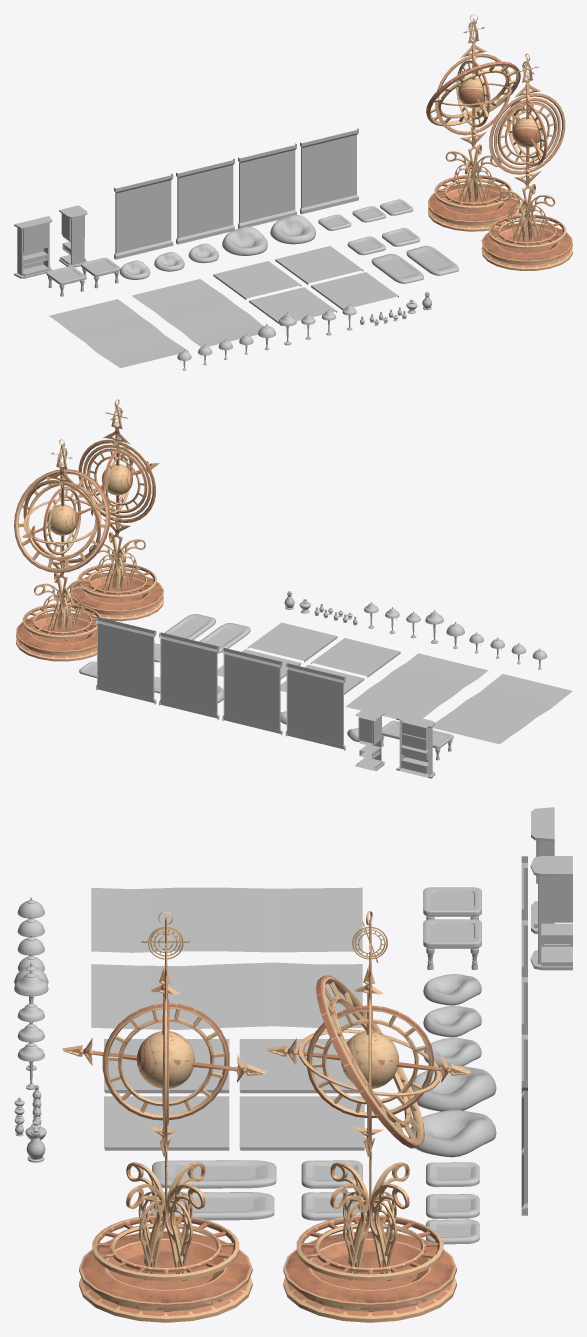
The model's file is fantasyscene_props.fbx.
The picture shows the model from 3 angles, top to bottom: view 1: azimuth 30°, elevation 25°; view 2: azimuth 150°, elevation 25°; view 3: azimuth 270°, elevation 25°; orthographic projection. The views are drawn at different scales.
Parts seen in each view (by area): view 1: astro_unposed, astro_posed, rug01, rug02, wall09, wall03, wall01, wall02, shelf, floor01, floor, floor03 (+13 smaller); view 2: astro_posed, astro_unposed, rug01, rug02, wall02, wall09, wall01, wall03, shelf, floor04, floor03, shef01 (+3 smaller); view 3: astro_posed, astro_unposed, rug01, rug02, floor01, floor03, floor, shef01, floor04, flatcushion07, beanbag04, beanbag03 (+14 smaller).
Part boxes in pixels (<box>): astro_unposed: <box>481,53,572,270</box>; astro_posed: <box>426,14,520,231</box>; rug01: <box>49,299,188,368</box>; rug02: <box>132,279,263,346</box>; wall09: <box>114,173,173,259</box>; wall03: <box>176,158,234,244</box>; wall01: <box>238,143,296,228</box>; wall02: <box>300,128,358,214</box>; shelf: <box>14,216,52,278</box>; floor01: <box>275,246,363,284</box>; floor: <box>213,261,301,299</box>; floor03: <box>311,272,398,310</box>; astro_posed: <box>14,439,110,661</box>; astro_unposed: <box>71,399,163,621</box>; rug01: <box>432,674,572,744</box>; rug02: <box>345,653,488,718</box>; wall02: <box>96,617,156,704</box>; wall09: <box>285,663,345,750</box>; wall01: <box>159,632,219,719</box>; wall03: <box>222,648,282,735</box>; shelf: <box>396,715,435,778</box>; floor04: <box>311,638,400,677</box>; floor03: <box>247,622,337,662</box>; shef01: <box>355,707,384,771</box>; astro_posed: <box>266,911,471,1322</box>; astro_unposed: <box>62,911,266,1322</box>; rug01: <box>91,887,362,952</box>; rug02: <box>91,962,362,1029</box>; floor01: <box>239,1096,364,1150</box>; floor03: <box>104,1096,229,1150</box>; floor: <box>239,1039,359,1093</box>; shef01: <box>530,856,572,970</box>; floor04: <box>104,1039,229,1093</box>; flatcushion07: <box>152,1160,276,1188</box>; beanbag04: <box>409,1110,496,1157</box>; beanbag03: <box>411,1065,496,1111</box>.
Size of the model in its own units: 1716 by 704 by 929.
